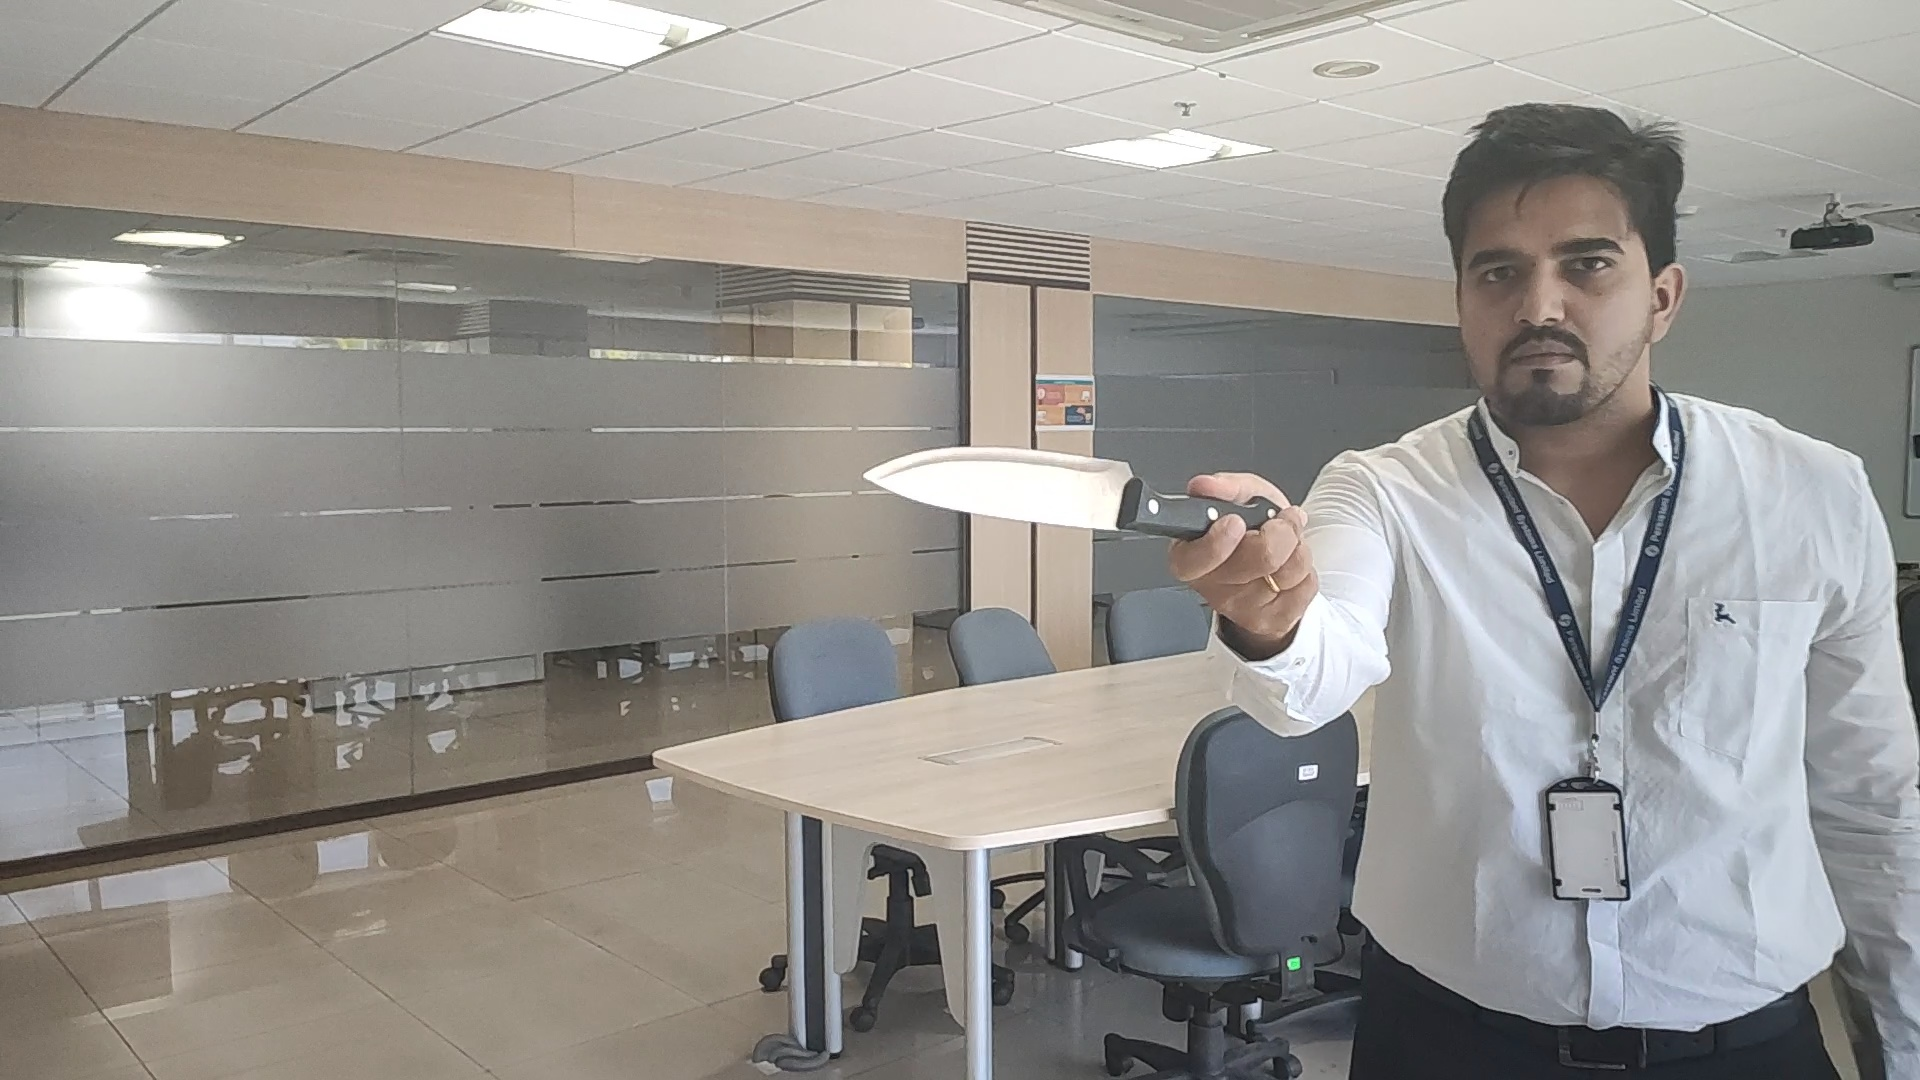knife: (861, 439, 1204, 535)
